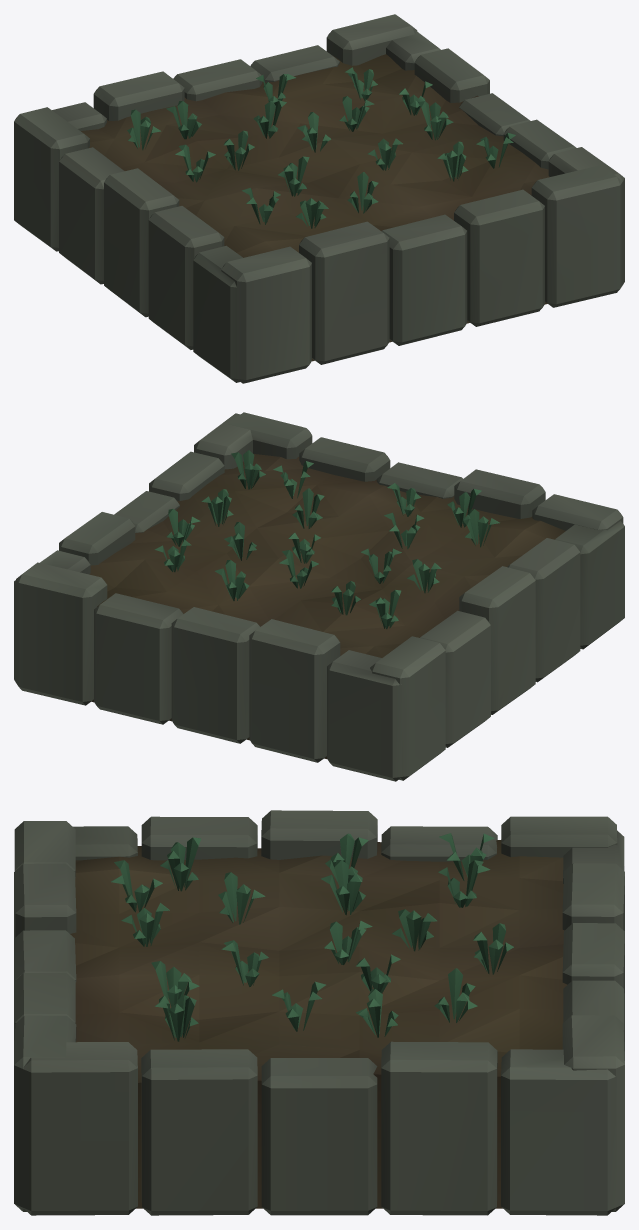
File: skyreach-garden-bed-v1.glb
3 renders of one model, top to bottom at view 1: azimuth 30°, elevation 25°; view 2: azimuth 150°, elevation 25°; view 3: azimuth 270°, elevation 25°, orthographic. The views are drawn at different scales.
Parts seen in each view (by area): view 1: GB_GARDEN_BED_STONE, GB_GARDEN_BED_SOIL, GB_GARDEN_BED_LEAVES; view 2: GB_GARDEN_BED_STONE, GB_GARDEN_BED_SOIL, GB_GARDEN_BED_LEAVES; view 3: GB_GARDEN_BED_STONE, GB_GARDEN_BED_SOIL, GB_GARDEN_BED_LEAVES.
Boxes of the visible parts, box(x1,y1,x2,y2) form: GB_GARDEN_BED_STONE: box(14, 14, 624, 383); GB_GARDEN_BED_SOIL: box(81, 54, 549, 361); GB_GARDEN_BED_LEAVES: box(127, 67, 515, 228); GB_GARDEN_BED_STONE: box(14, 412, 624, 781); GB_GARDEN_BED_SOIL: box(89, 454, 565, 758); GB_GARDEN_BED_LEAVES: box(154, 450, 499, 629); GB_GARDEN_BED_STONE: box(14, 810, 624, 1215); GB_GARDEN_BED_SOIL: box(70, 840, 567, 1208); GB_GARDEN_BED_LEAVES: box(111, 833, 513, 1041).
Size of the model in its own units: 3.01 by 0.9629 by 3.01.
